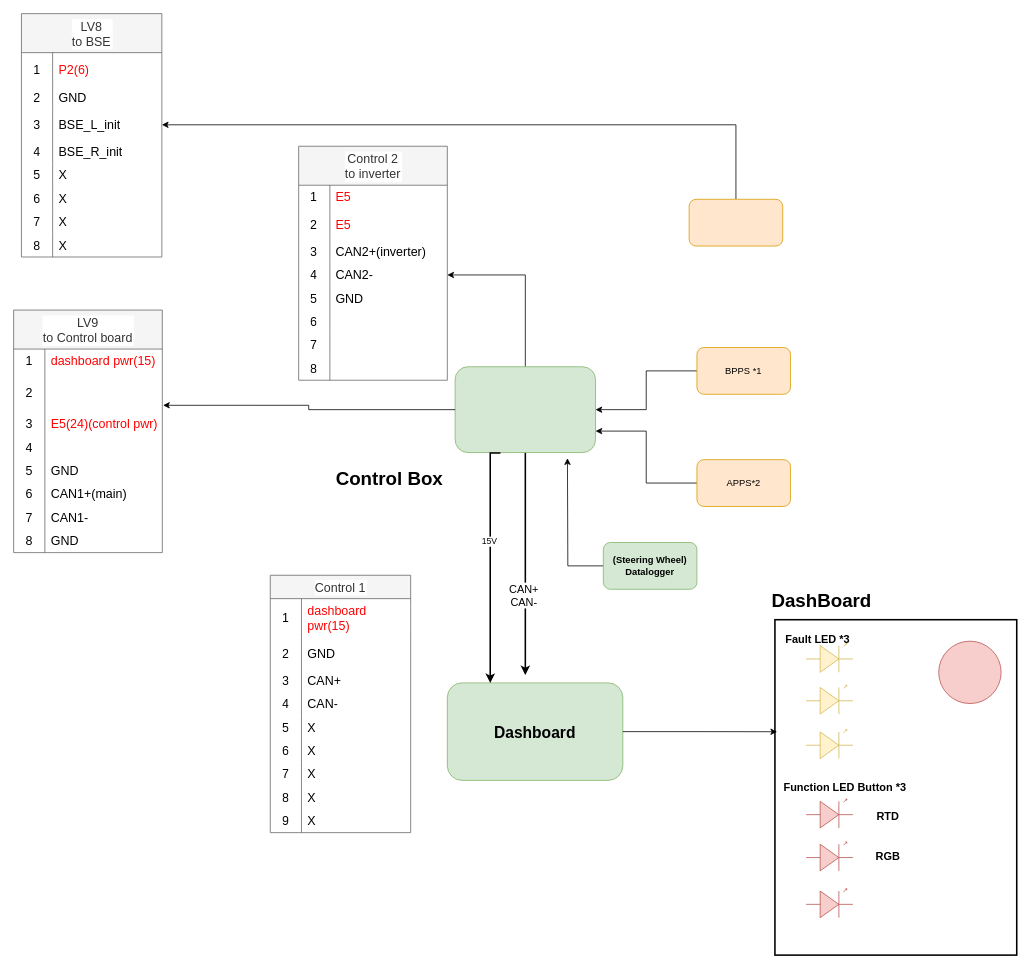
Image size: 1031x970. Some labels were removed from this diagram. The shapes that lost their labels are listed below. From the top down, each one's centre as x and y in pixels, then its label:
At point (735, 222): "BSE *2".
At point (525, 409): "Control Board".
At point (969, 672): "Shutdown Button Cockpit".
